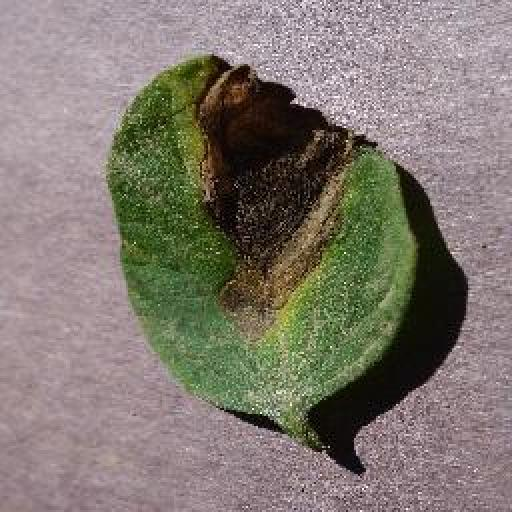Early Blight: (105, 53, 420, 423)
